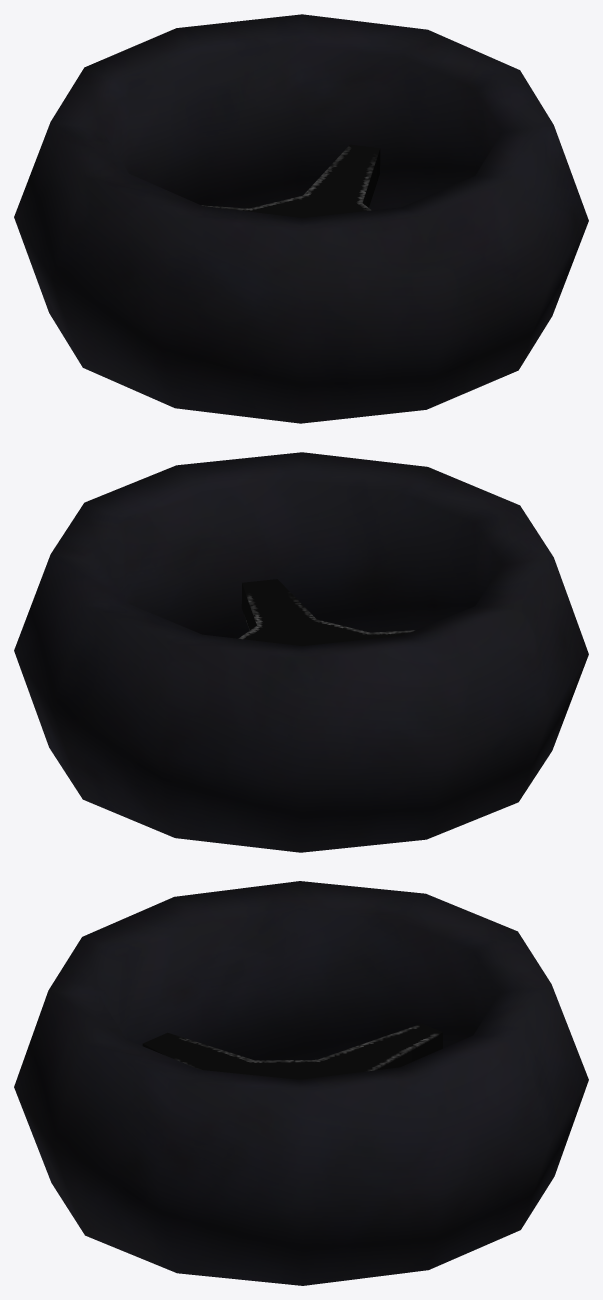
File: rueda.glb
The picture shows the model from 3 angles, top to bottom: view 1: azimuth 30°, elevation 25°; view 2: azimuth 150°, elevation 25°; view 3: azimuth 270°, elevation 25°; orthographic projection.
Parts seen in each view (by area): view 1: Cylinder.005; view 2: Cylinder.005; view 3: Cylinder.005.
Part boxes in pixels (x1,y1,x2,y2): Cylinder.005: [14, 14, 588, 423]; Cylinder.005: [14, 452, 588, 852]; Cylinder.005: [14, 881, 588, 1285].
Bounding box in the file's own units: 0.9311 × 0.3548 × 0.931.
Materials: 1 (1 with a texture image).
